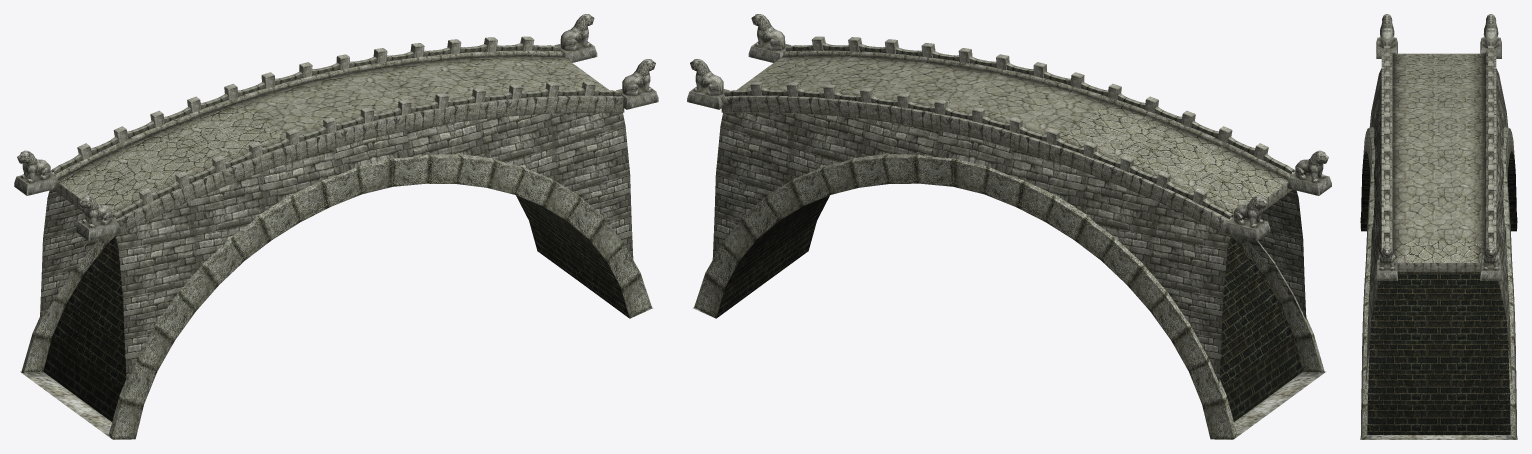
Rendered from middlestone_bridge.fbx.
The picture shows the model from 3 angles, left to right: view 1: azimuth 30°, elevation 25°; view 2: azimuth 150°, elevation 25°; view 3: azimuth 270°, elevation 25°; orthographic projection. The views are drawn at different scales.
Visible parts, largest first — view 1: bigstone_bridge; view 2: bigstone_bridge; view 3: bigstone_bridge.
Part boxes in pixels (bbox=[...]): bigstone_bridge: bbox=[14, 14, 658, 439]; bigstone_bridge: bbox=[687, 14, 1331, 439]; bigstone_bridge: bbox=[1360, 14, 1517, 439].
Bounding box in the file's own units: 56.3 × 24.13 × 15.79.
